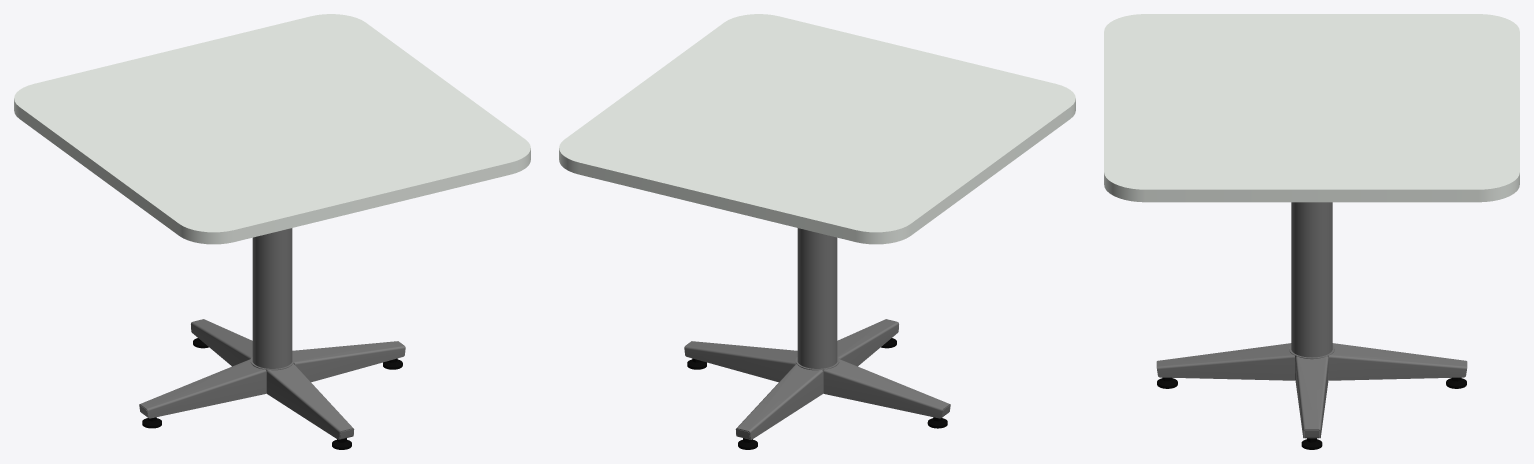
The model's file is Malta Coffee table.FBX.
The picture shows the model from 3 angles, left to right: view 1: azimuth 30°, elevation 25°; view 2: azimuth 150°, elevation 25°; view 3: azimuth 270°, elevation 25°; orthographic projection. The views are drawn at different scales.
Parts seen in each view (by area): view 1: Object062, Object061, KIIT0-42-AS-000; view 2: Object062, Object061, KIIT0-42-AS-000; view 3: Object062, Object061, KIIT0-42-AS-000.
Part boxes in pixels (x1,y1,x2,y2): Object062: (14, 14, 530, 244); Object061: (139, 228, 405, 439); KIIT0-42-AS-000: (142, 338, 402, 449); Object062: (559, 14, 1075, 244); Object061: (684, 228, 950, 439); KIIT0-42-AS-000: (687, 338, 947, 449); Object062: (1104, 14, 1519, 202); Object061: (1156, 202, 1467, 438); KIIT0-42-AS-000: (1157, 377, 1466, 449).
Size of the model in its own units: 600 by 450 by 600.
Materials: 3 (1 with a texture image).
